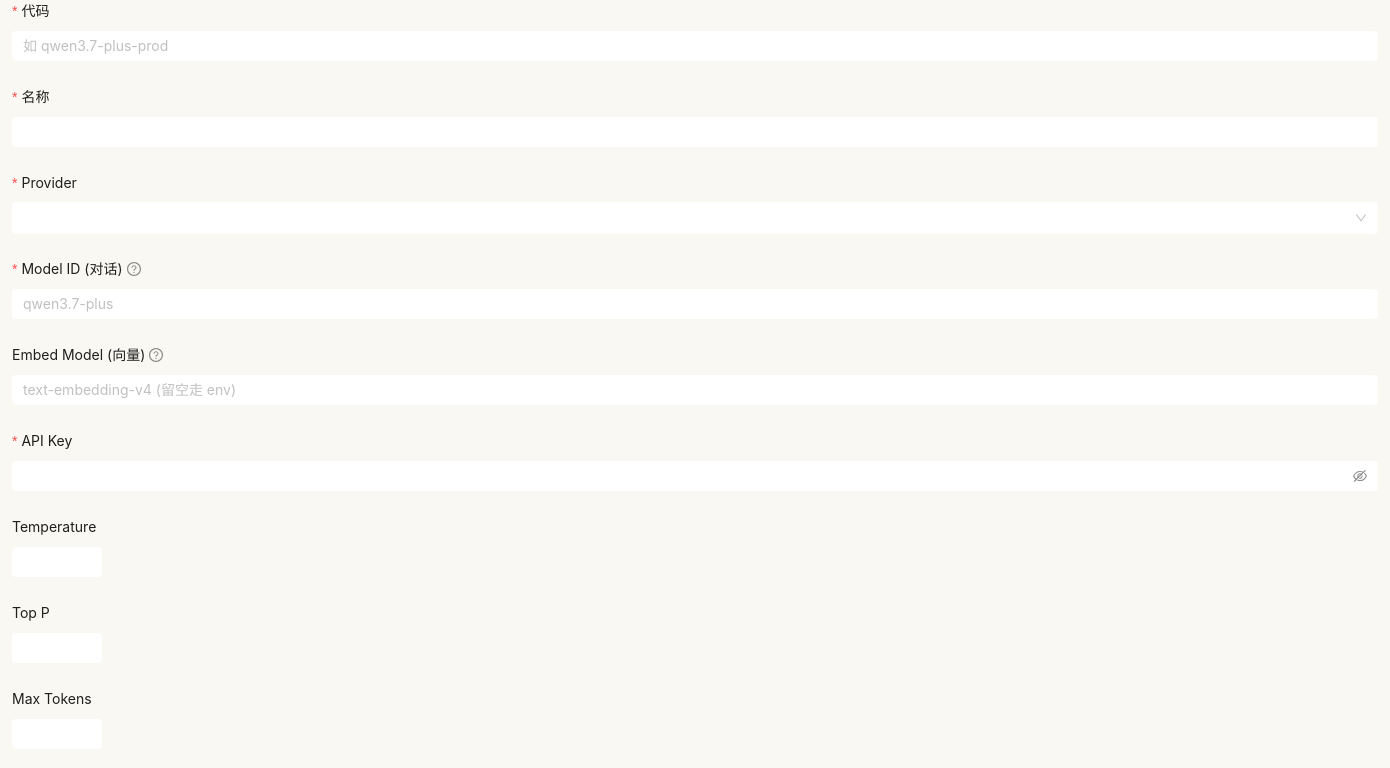
<AIConfigForm /> › typing into code field updates form value
Type "my-code" into the field with placeholder "如 qwen3.7-plus-prod" at [695, 46], box [12,31,1378,61]
(page scrolled)
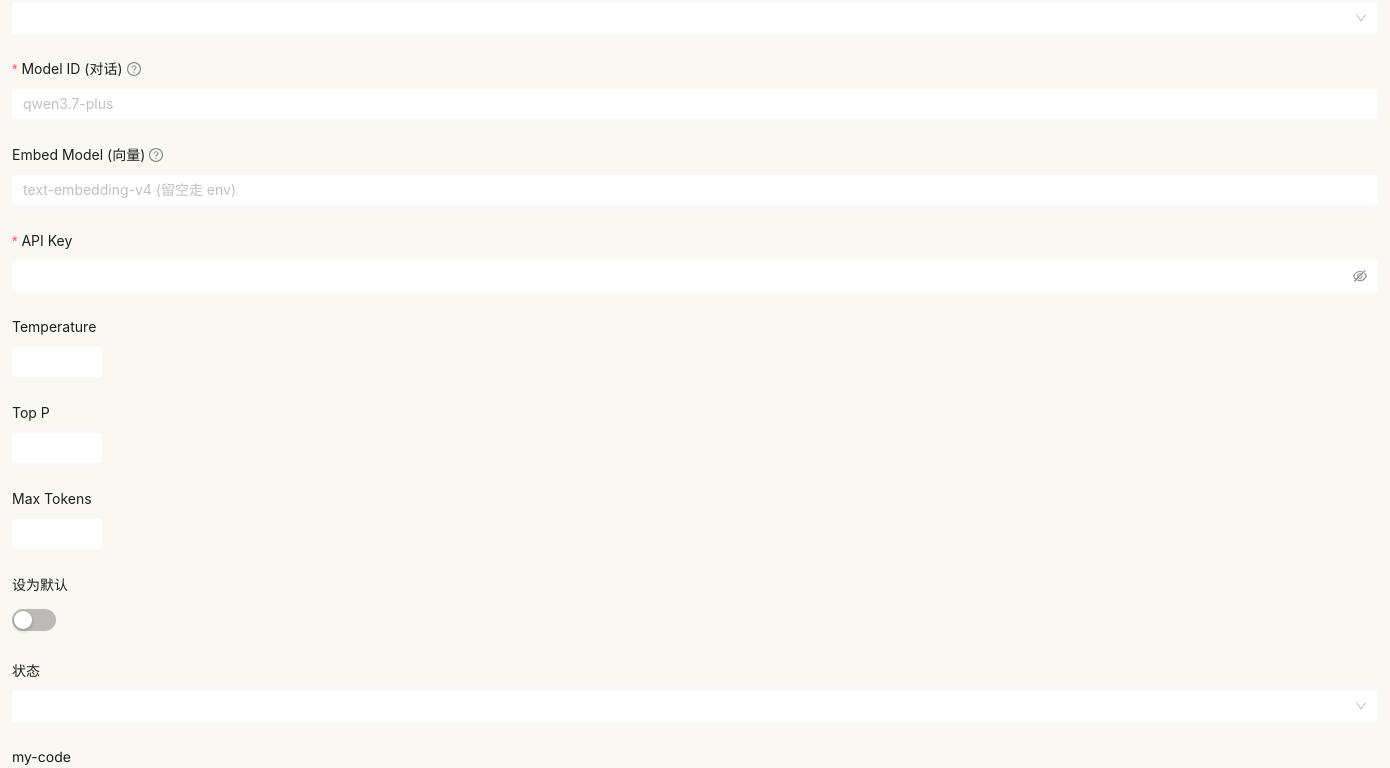
Expected: the text with test id "code-value" reads "my-code", [12,748,71,765]
